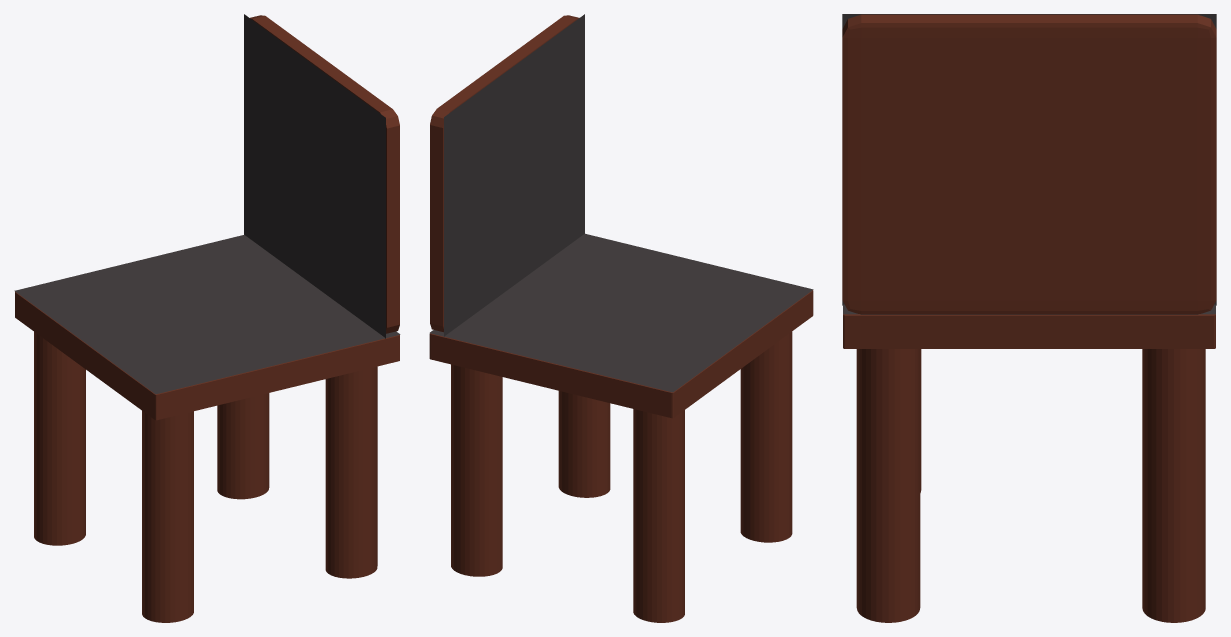
File: Stul.fbx
3 views of the same model, side by side, from view 1: azimuth 30°, elevation 25°; view 2: azimuth 150°, elevation 25°; view 3: azimuth 270°, elevation 25° (orthographic). The views are drawn at different scales.
Visible parts, largest first — view 1: Cube.003, Cube.002, Cylinder.002, Cylinder.003, Cube, Cylinder, Cylinder.001, Cube.001; view 2: Cube.003, Cube.002, Cylinder, Cylinder.001, Cube, Cylinder.003, Cylinder.002, Cube.001; view 3: Cube.001, Cylinder.002, Cylinder.001, Cube, Cube.002.
Part boxes in pixels (<box>): Cube.003: <box>14,235,400,394</box>; Cube.002: <box>244,14,385,338</box>; Cylinder.002: <box>325,366,377,578</box>; Cylinder.003: <box>142,411,193,622</box>; Cube: <box>15,291,399,420</box>; Cylinder: <box>34,332,85,545</box>; Cylinder.001: <box>217,393,269,499</box>; Cube.001: <box>250,15,399,333</box>; Cube.003: <box>430,233,813,392</box>; Cube.002: <box>444,14,584,336</box>; Cylinder: <box>633,409,684,622</box>; Cylinder.001: <box>451,364,502,576</box>; Cube: <box>429,290,813,418</box>; Cylinder.003: <box>740,331,792,542</box>; Cylinder.002: <box>558,391,610,497</box>; Cube.001: <box>430,15,578,332</box>; Cube.001: <box>842,14,1216,314</box>; Cylinder.002: <box>856,349,920,622</box>; Cylinder.001: <box>1142,349,1205,622</box>; Cube: <box>843,314,1215,348</box>; Cube.002: <box>842,14,1216,305</box>.
Bounding box in the file's own units: 56.07 × 101 × 56.23.
